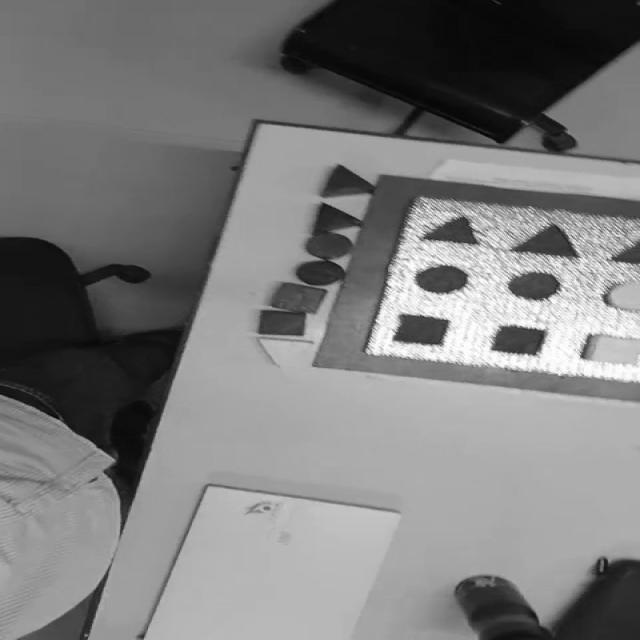bcircle: (296, 260, 344, 286)
bcube: (256, 309, 308, 337)
btriangle: (315, 202, 362, 231)
mtcircle: (415, 264, 469, 294), (508, 272, 561, 299)
mtcube: (391, 313, 451, 346), (489, 324, 548, 356)
mttriangle: (511, 222, 577, 257), (421, 214, 480, 246), (608, 239, 639, 265)
rcircle: (306, 232, 353, 259)
rcube: (271, 282, 329, 314)
rtriangle: (323, 165, 376, 198)
wb: (358, 193, 640, 386)
ycircle: (605, 280, 639, 310)
ycube: (581, 334, 639, 365)
ytriangle: (260, 337, 316, 367)
